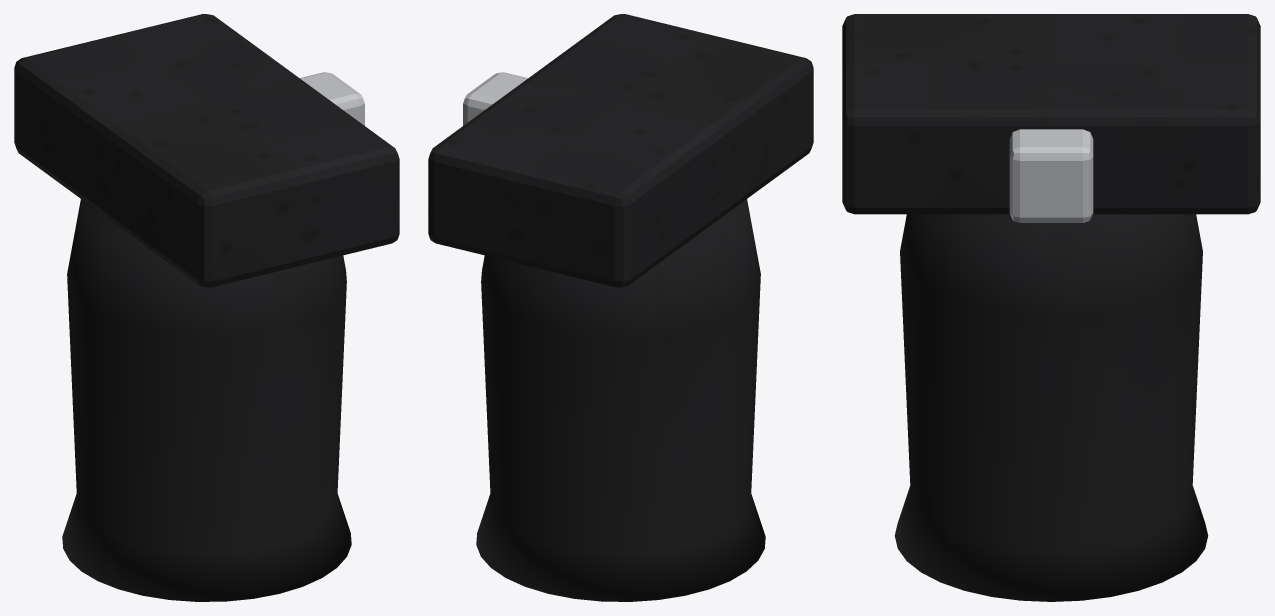
The model's file is grip_stubby.glb.
3 renders of one model, left to right at view 1: azimuth 30°, elevation 25°; view 2: azimuth 150°, elevation 25°; view 3: azimuth 270°, elevation 25°, orthographic. The views are drawn at different scales.
Parts seen in each view (by area): view 1: stub, g_clamp, g_screw; view 2: stub, g_clamp, g_screw; view 3: stub, g_clamp, g_screw.
Part boxes in pixels (x1,y1,x2,y2): stub: [62, 199, 351, 601]; g_clamp: [14, 14, 399, 287]; g_screw: [300, 72, 364, 125]; stub: [476, 199, 765, 601]; g_clamp: [428, 14, 813, 287]; g_screw: [463, 72, 527, 125]; stub: [894, 214, 1208, 601]; g_clamp: [842, 14, 1260, 214]; g_screw: [1009, 129, 1093, 222].
Size of the model in its own units: 0.032 by 0.05 by 0.04.
3 materials, 2 textured.
